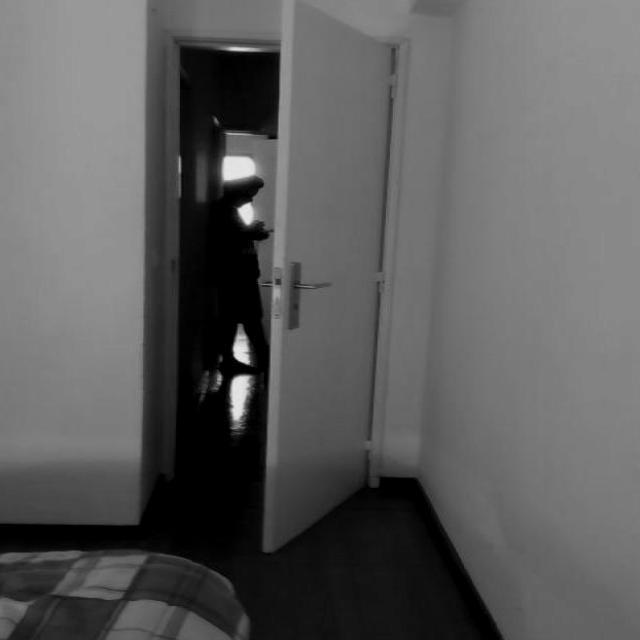door: (240, 0, 404, 560)
